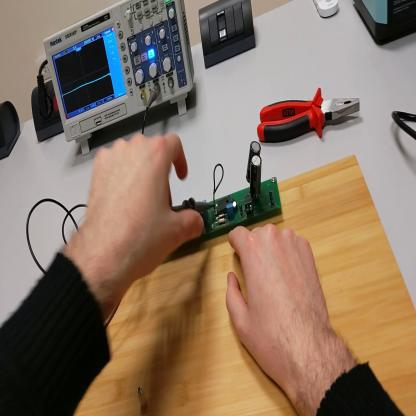hand: (225, 221, 336, 395), (85, 131, 208, 287)
high voltage board: (174, 143, 283, 240)
oscilloscope: (43, 2, 196, 155)
oscilloscope probe tip: (175, 197, 219, 216)
pliers: (258, 86, 362, 142)
socket: (32, 75, 65, 144), (2, 98, 22, 161)
welder station: (355, 1, 415, 47)
working area: (80, 153, 416, 414)
